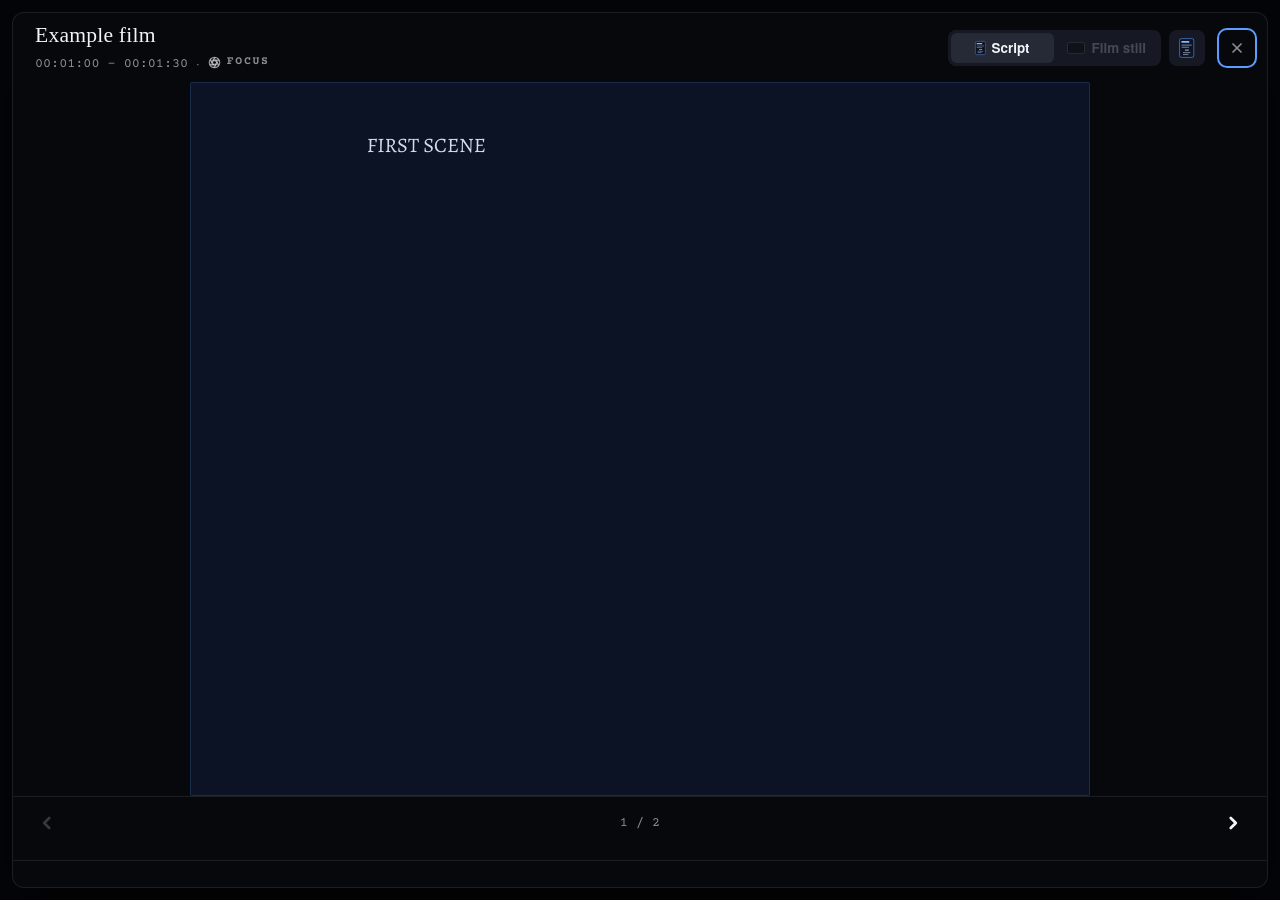
SceneViewerModal › steps through its one scene list with buttons and arrow keys
Expected: the text "FIRST SCENE" is shown, [367,131,486,159]
Expected: the text "1 / 2" is shown, [620,814,660,830]
Step 1. Click the button named "Next" → (1233, 822), box [1211,800,1255,844]
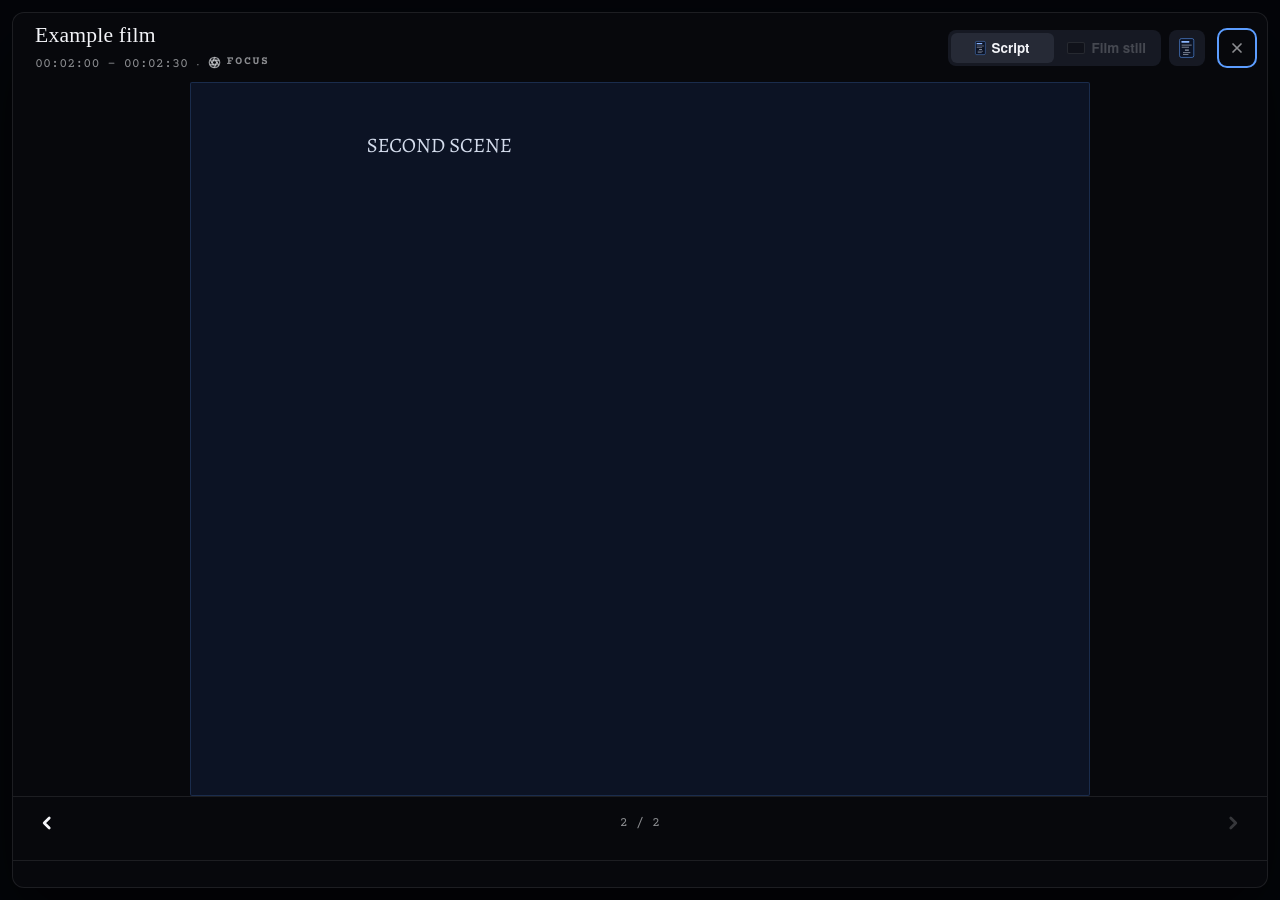
Expected: the text "SECOND SCENE" is shown, [367,131,512,159]
Expected: the text "2 / 2" is shown, [620,814,660,830]
Step 2. Press ArrowLeft
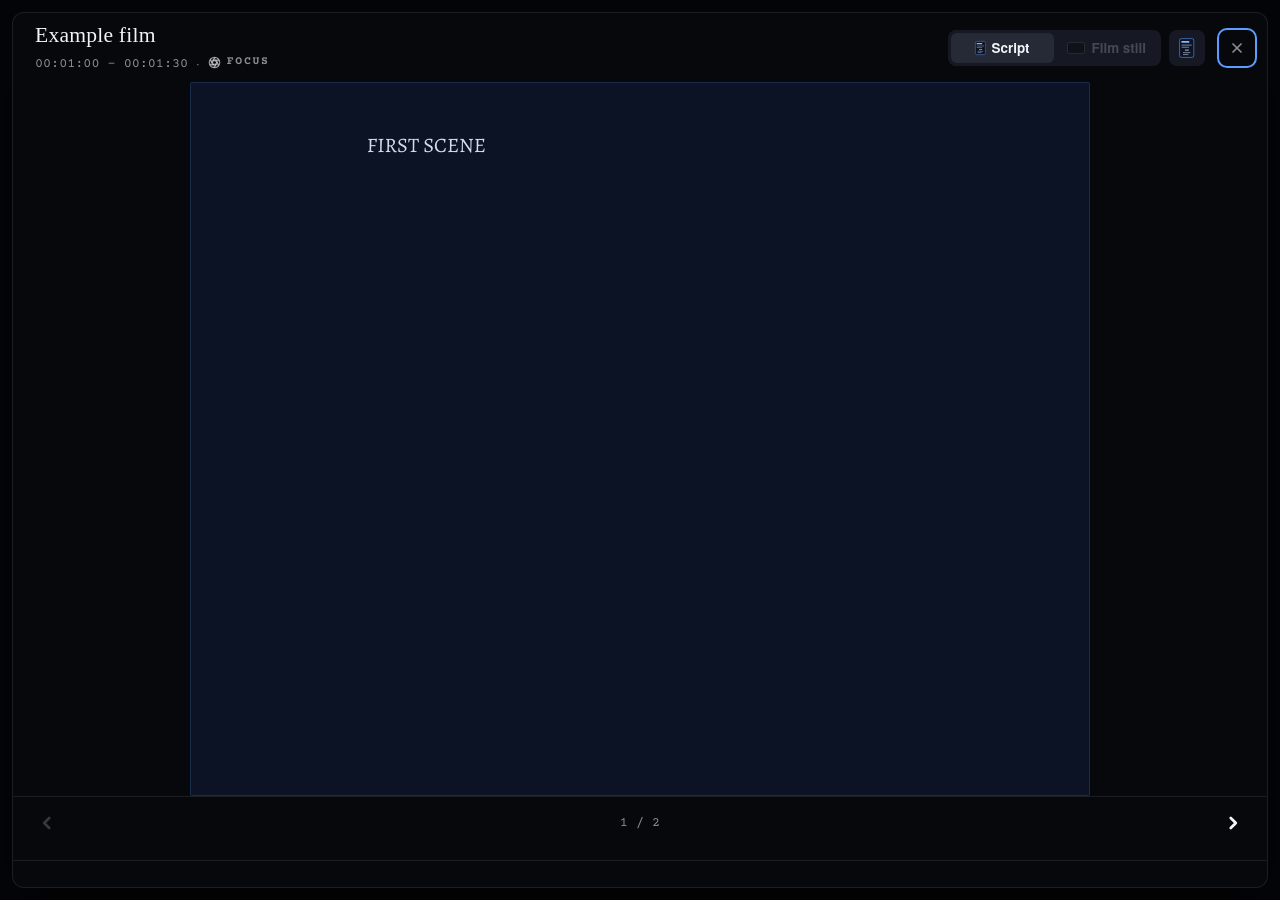
Expected: the text "FIRST SCENE" is shown, [367,131,486,159]
Expected: the text "1 / 2" is shown, [620,814,660,830]
